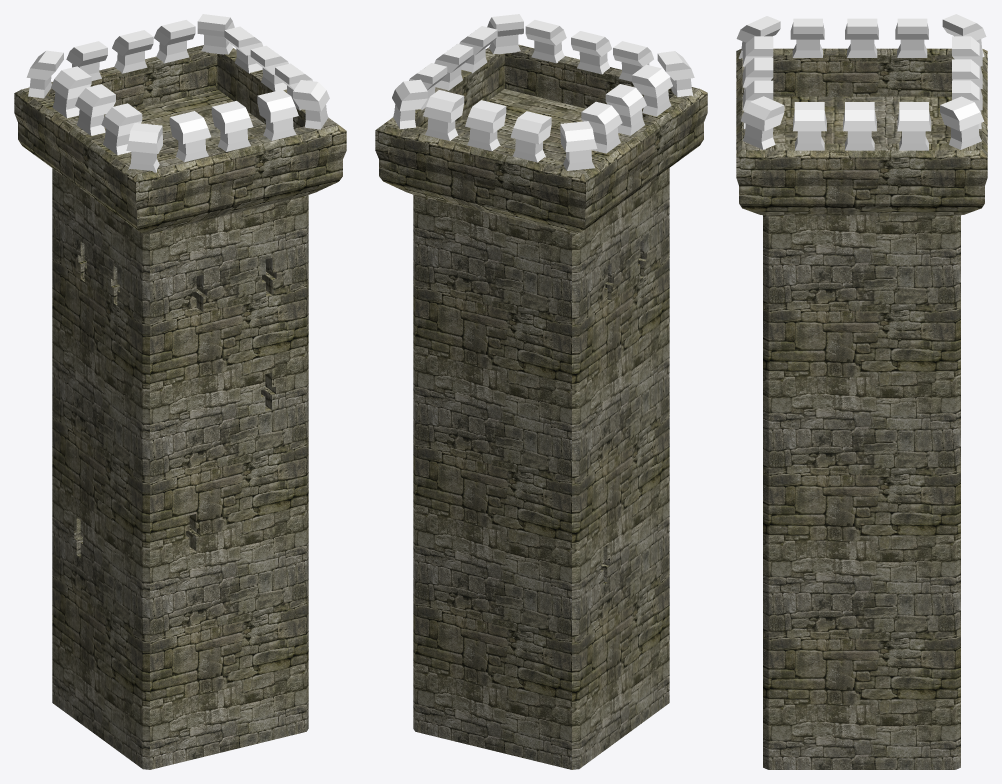
File: tower1.fbx
3 renders of one model, left to right at view 1: azimuth 30°, elevation 25°; view 2: azimuth 150°, elevation 25°; view 3: azimuth 270°, elevation 25°, orthographic. The views are drawn at different scales.
Visible parts, largest first — view 1: Default_Layer; view 2: Default_Layer; view 3: Default_Layer.
Boxes of the visible parts, <box> form: Default_Layer: <box>14,14,346,769</box>; Default_Layer: <box>375,14,707,769</box>; Default_Layer: <box>736,14,987,769</box>.
Bounding box in the file's own units: 1070 × 3125 × 1070.
